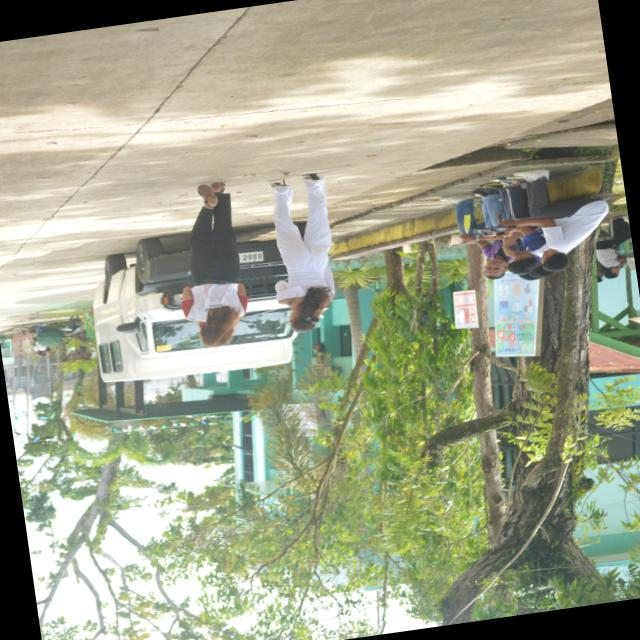person: (501, 168, 608, 270), (182, 182, 247, 346), (271, 173, 335, 331), (441, 188, 512, 279), (596, 216, 630, 278)
